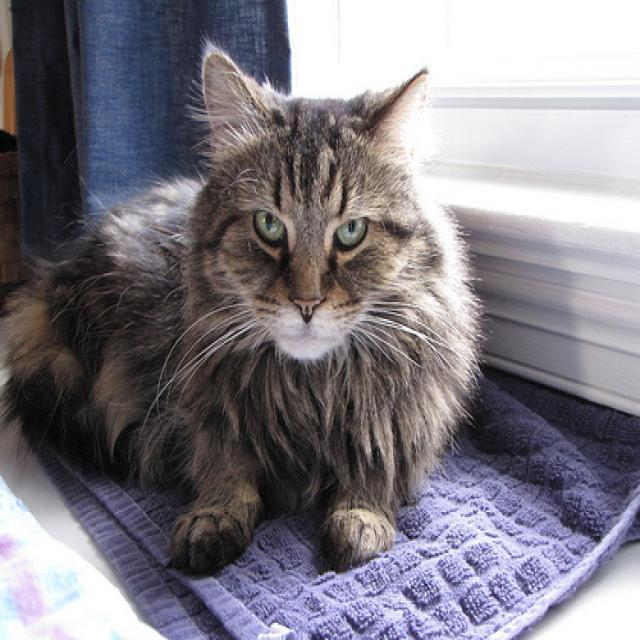Maine_Coon: (200, 41, 426, 357)
